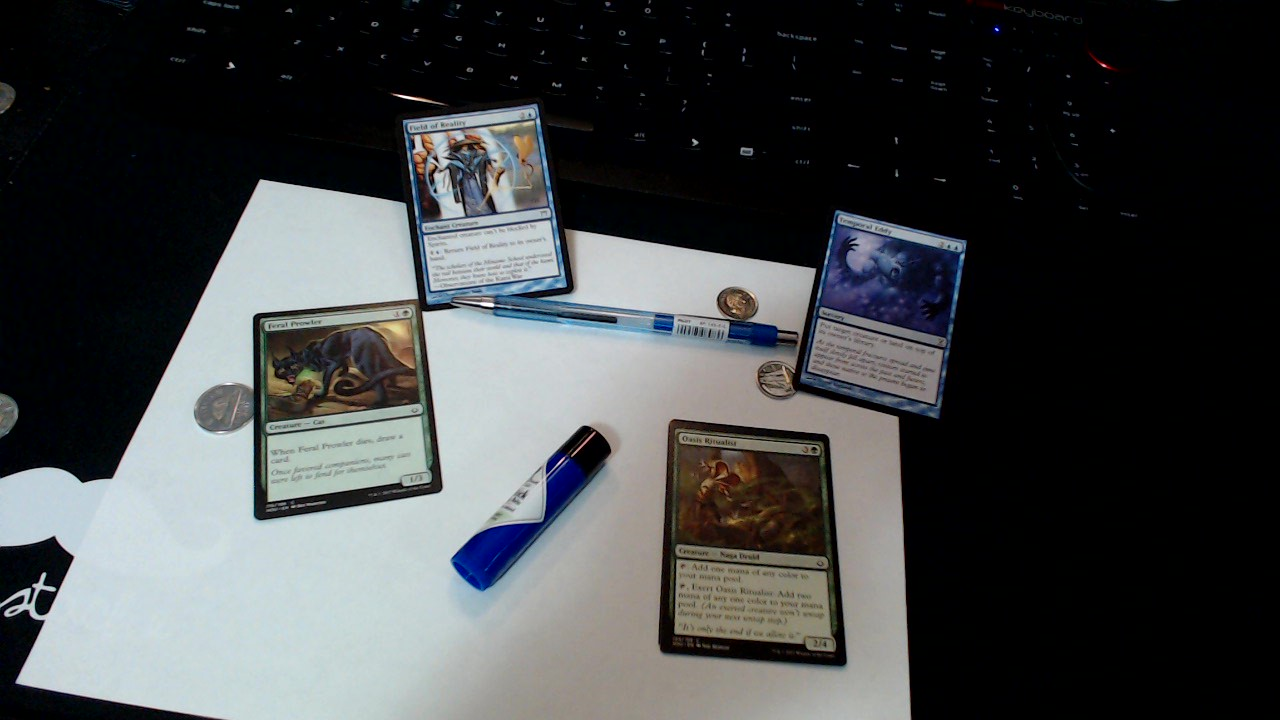MTG Card: (654, 416, 857, 674), (246, 298, 458, 529), (797, 188, 972, 432), (396, 101, 582, 316)
